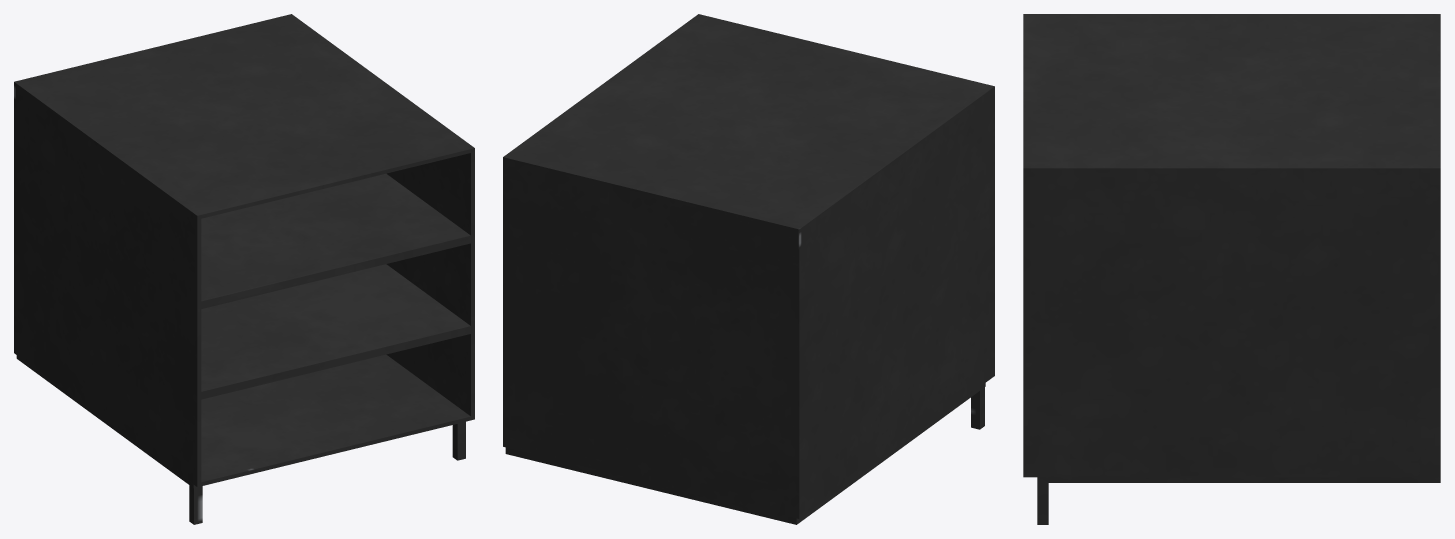
File: LC_3081_Storage_LOD1.fbx
The picture shows the model from 3 angles, left to right: view 1: azimuth 30°, elevation 25°; view 2: azimuth 150°, elevation 25°; view 3: azimuth 270°, elevation 25°; orthographic projection. The views are drawn at different scales.
Visible parts, largest first — view 1: LC_3081_Storage_LOD1; view 2: LC_3081_Storage_LOD1; view 3: LC_3081_Storage_LOD1.
Part boxes in pixels (x1,y1,x2,y2): LC_3081_Storage_LOD1: [14, 14, 474, 524]; LC_3081_Storage_LOD1: [503, 14, 994, 524]; LC_3081_Storage_LOD1: [1023, 14, 1440, 524].
Size of the model in its own units: 70 by 75.73 by 80.
Materials: 1 (1 with a texture image).
